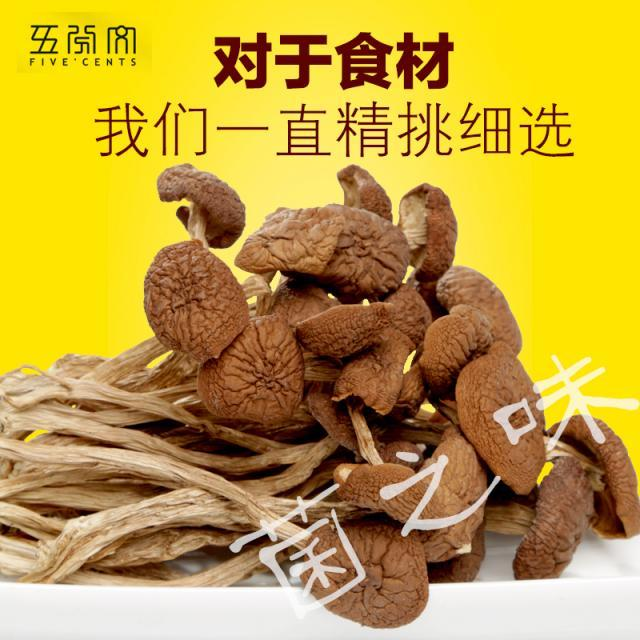Agrocybe aegerita: (0, 163, 638, 585)
